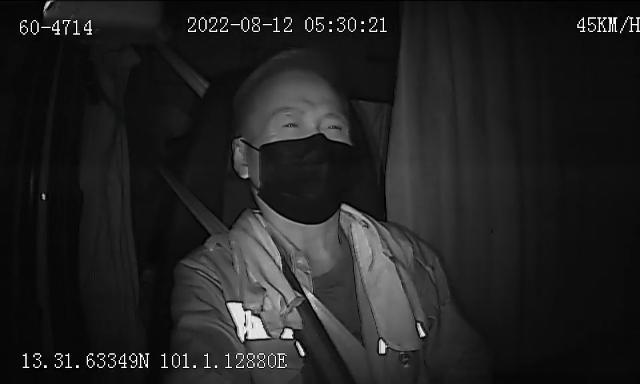SafeDriving: (317, 114, 348, 135), (274, 112, 306, 132)
Seatbelt: (184, 194, 368, 384)
